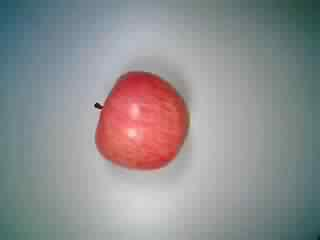apple: (87, 71, 192, 173)
